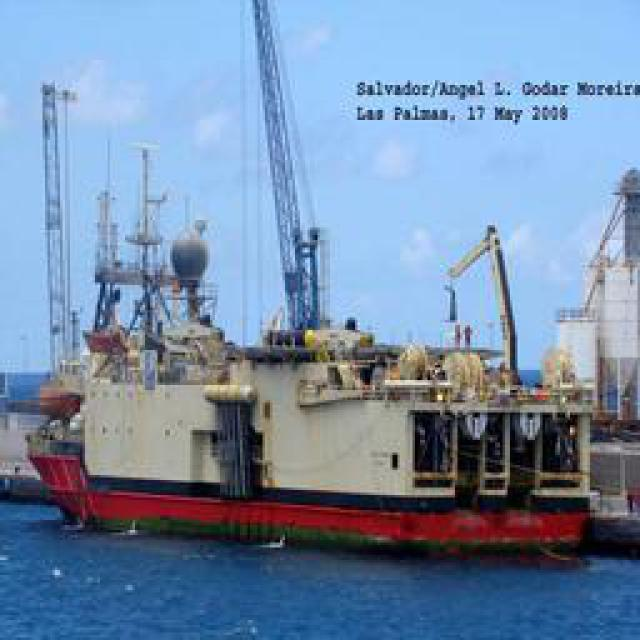Ship: (22, 19, 625, 544)
